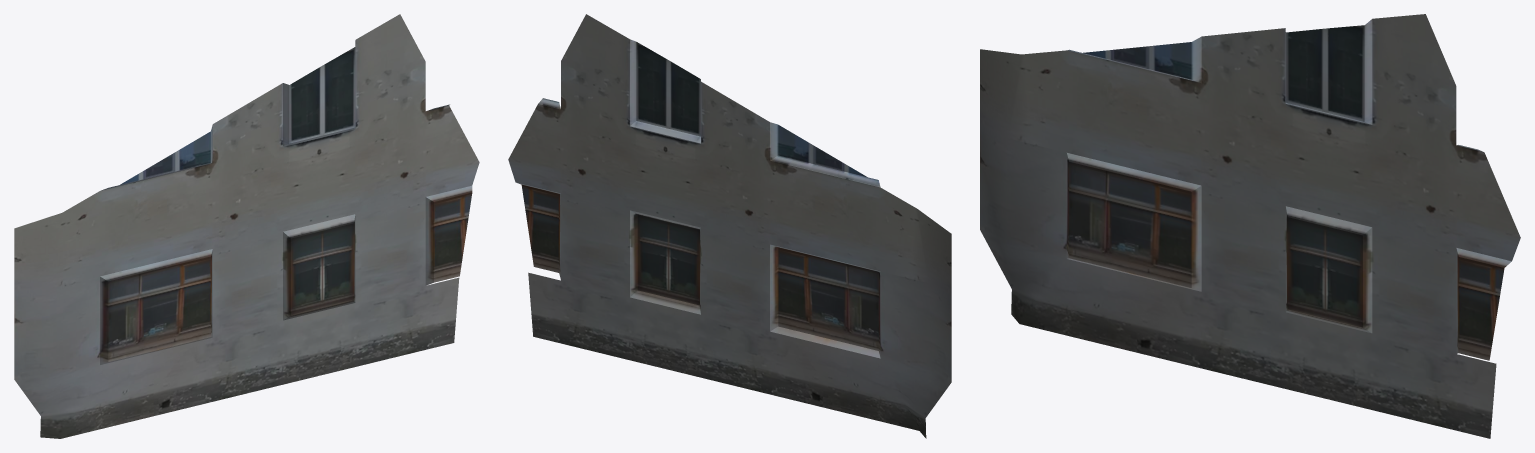
File: House_03_11.fbx
The picture shows the model from 3 angles, left to right: view 1: azimuth 30°, elevation 25°; view 2: azimuth 150°, elevation 25°; view 3: azimuth 330°, elevation 25°; orthographic projection. The views are drawn at different scales.
Parts seen in each view (by area): view 1: Дом2.011; view 2: Дом2.011; view 3: Дом2.011.
Part boxes in pixels (box(x1,y1,x2,y2)): Дом2.011: box(14, 14, 479, 438); Дом2.011: box(508, 14, 951, 438); Дом2.011: box(980, 14, 1520, 438).
Size of the model in its own units: 15.66 by 11.16 by 0.5786.
Materials: 1 (1 with a texture image).
